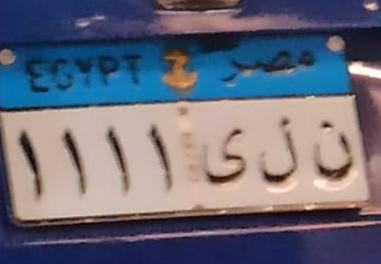1: (146, 118, 179, 197), (14, 127, 49, 200), (58, 126, 92, 201), (103, 124, 134, 200)
laam: (258, 113, 300, 189)
noon: (310, 118, 353, 188)
yaa: (200, 121, 248, 192)
